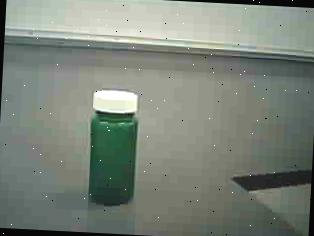Bottle C: (73, 83, 158, 217)
